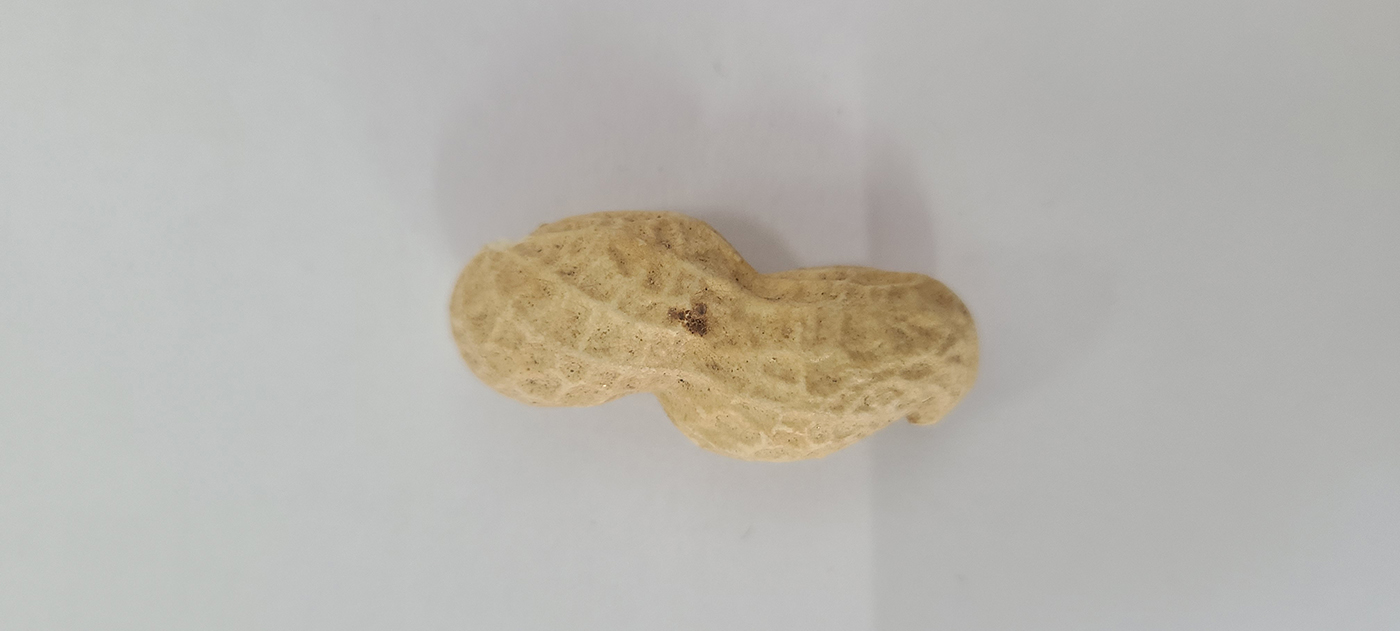h: (445, 205, 981, 464)
